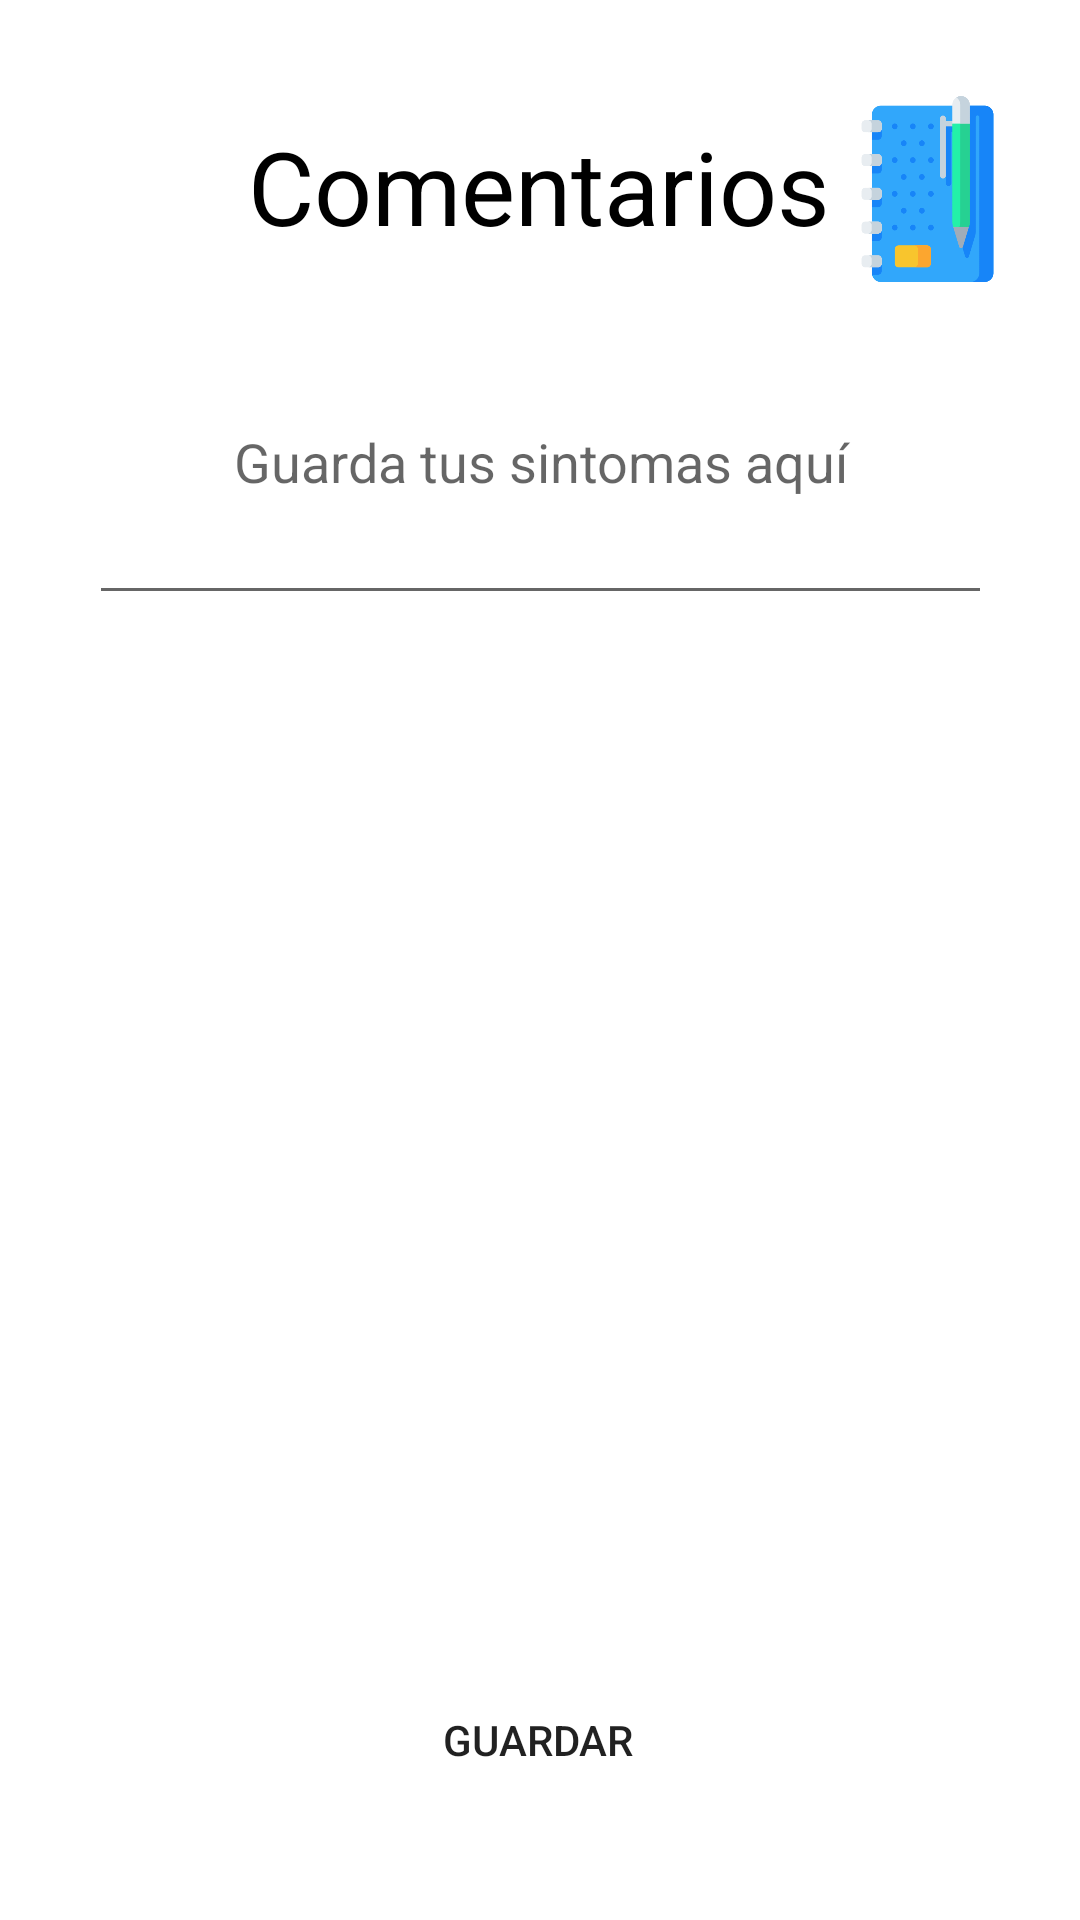

Icons on this 1080 × 1920 Android screen, each with its box as (x1=x1, y1=y1, x2=x2, y2=y2):
nota: (x1=869, y1=96, x2=994, y2=282)
